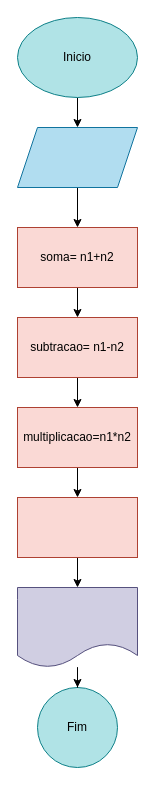
Image size: 155x785. Some labels were removed from this diagram. The shapes that lost their labels are listed below. From the top down, each one's box as (x1, y1, x2, y2) in pixels, then its label:
(16, 126, 138, 188): n1,n2
(16, 496, 138, 558): divisao= n1/n2
(16, 586, 138, 668): soma, subtracao, multiplicacao, divisao,
